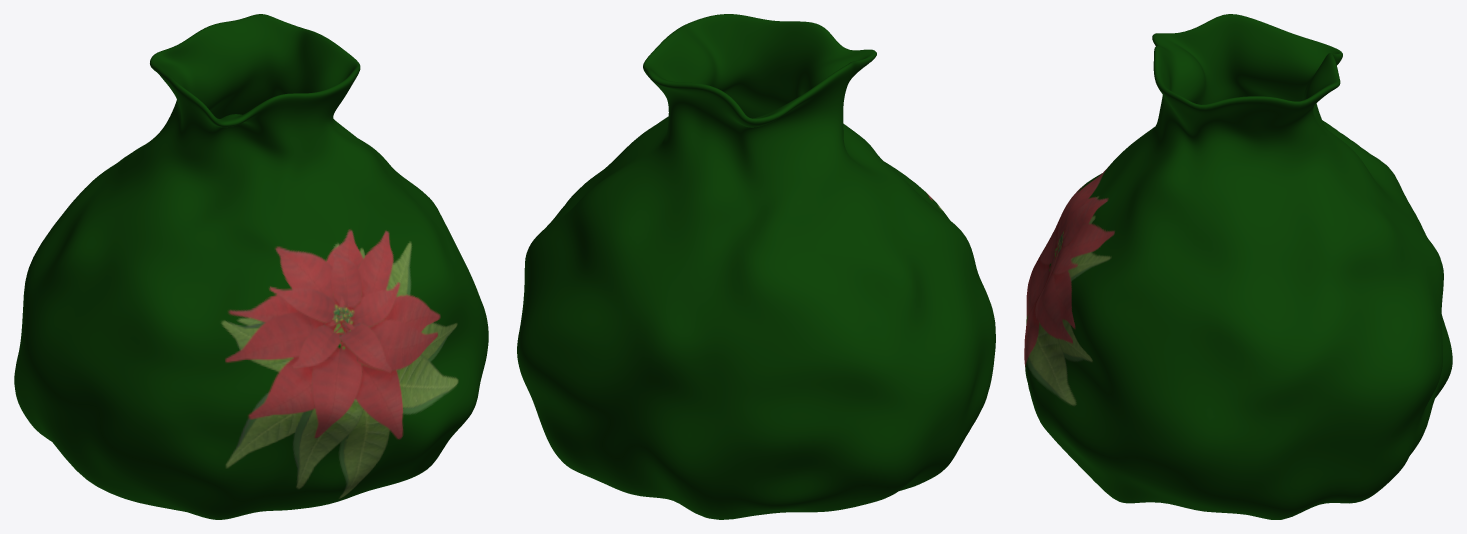
File: poinsettia_seed.fbx
3 views of the same model, side by side, from view 1: azimuth 30°, elevation 25°; view 2: azimuth 150°, elevation 25°; view 3: azimuth 270°, elevation 25° (orthographic). The views are drawn at different scales.
Parts seen in each view (by area): view 1: zak; view 2: zak; view 3: zak.
Part boxes in pixels (x1,y1,x2,y2): zak: [14, 14, 488, 519]; zak: [517, 14, 995, 519]; zak: [1024, 14, 1452, 519].
Bounding box in the file's own units: 196 × 183 × 175.
1 material, 1 textured.
